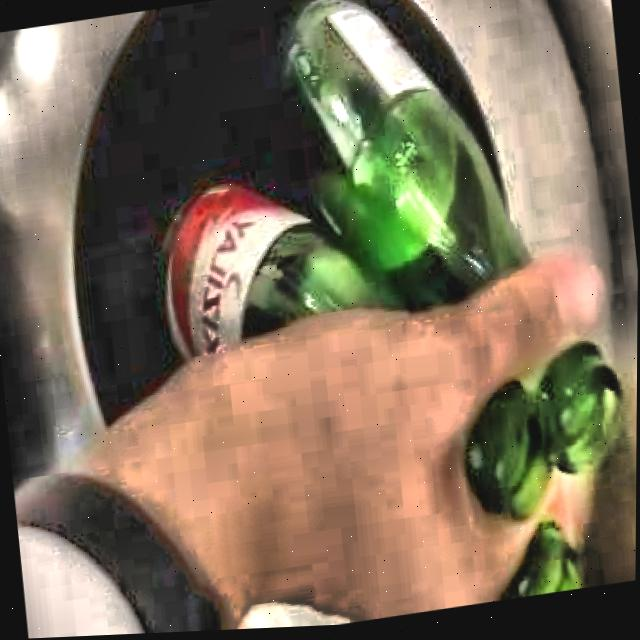glass: (164, 0, 525, 360), (463, 351, 612, 526), (500, 530, 581, 605)
